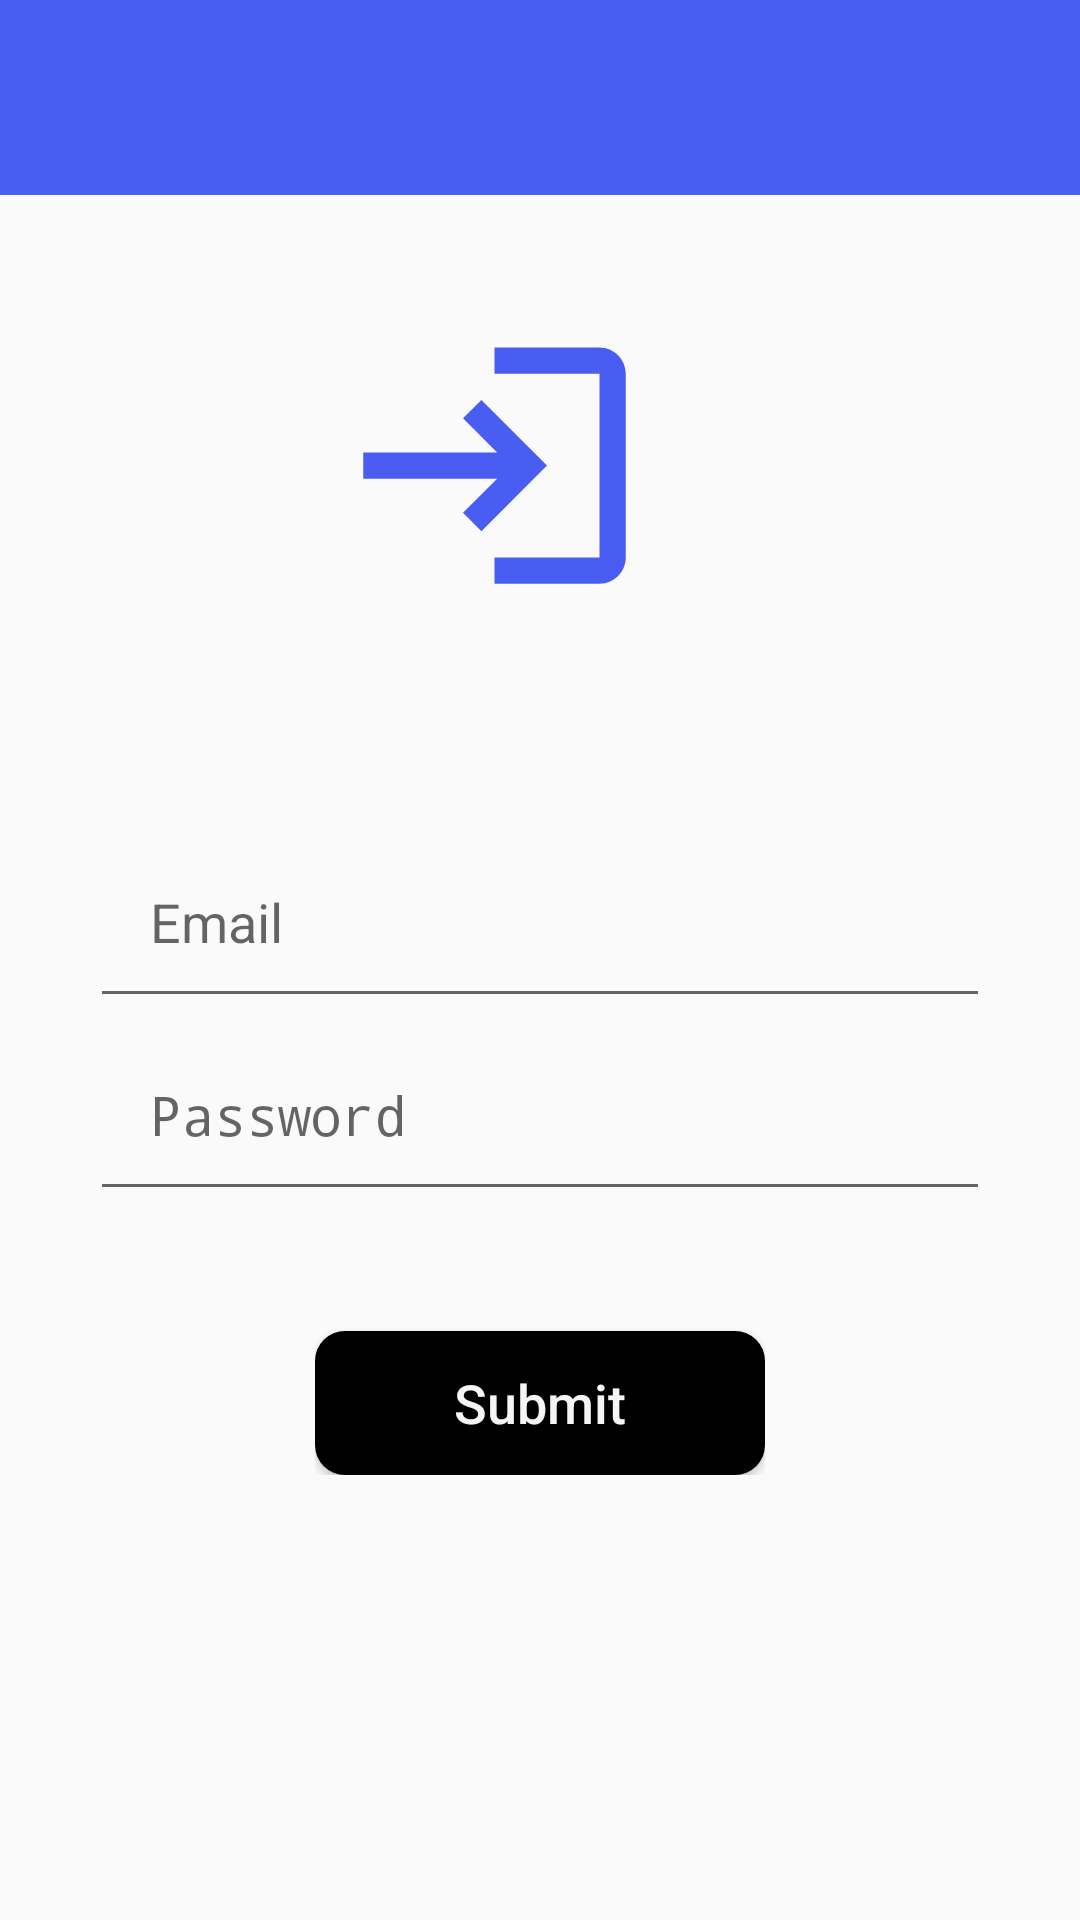

Screen size 1080×1920. Icon name, then its center in pixels as point (x, y):
login: point (494, 465)
